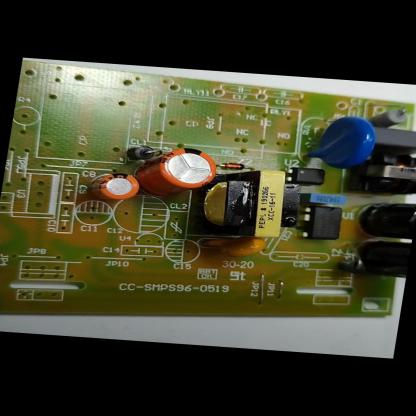Cap1: (134, 143, 224, 199)
Cap2: (79, 169, 143, 203)
Cap3: (351, 196, 416, 241)
Cap4: (350, 237, 412, 281)
MOSFET: (296, 204, 347, 242)
Mov: (298, 112, 382, 172)
Resistor: (372, 105, 412, 130)
Transformer: (181, 164, 292, 246), (352, 149, 416, 196)
